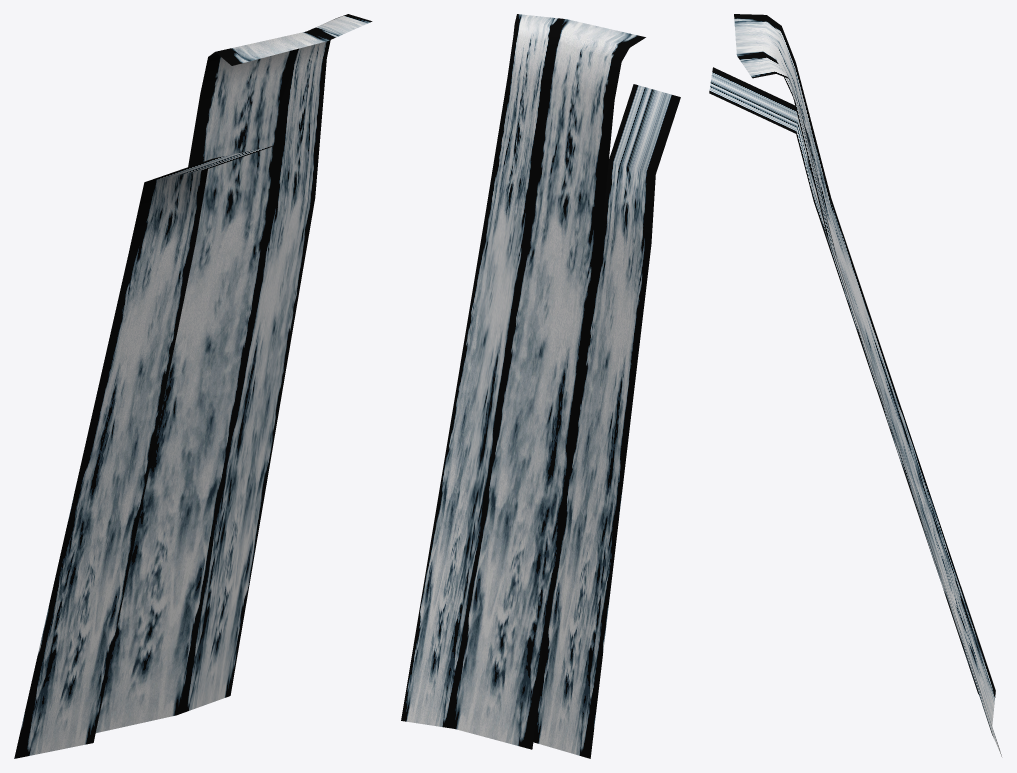
The model's file is jd_shui_5.FBX.
3 renders of one model, left to right at view 1: azimuth 30°, elevation 25°; view 2: azimuth 150°, elevation 25°; view 3: azimuth 270°, elevation 25°, orthographic. The views are drawn at different scales.
Visible parts, largest first — view 1: jd_shui_5; view 2: jd_shui_5; view 3: jd_shui_5.
Boxes of the visible parts, x1,y1,x2,y2 form: jd_shui_5: [14, 14, 372, 758]; jd_shui_5: [401, 14, 680, 758]; jd_shui_5: [709, 14, 1001, 756].
Size of the model in its own units: 3778 by 12411 by 4860.
